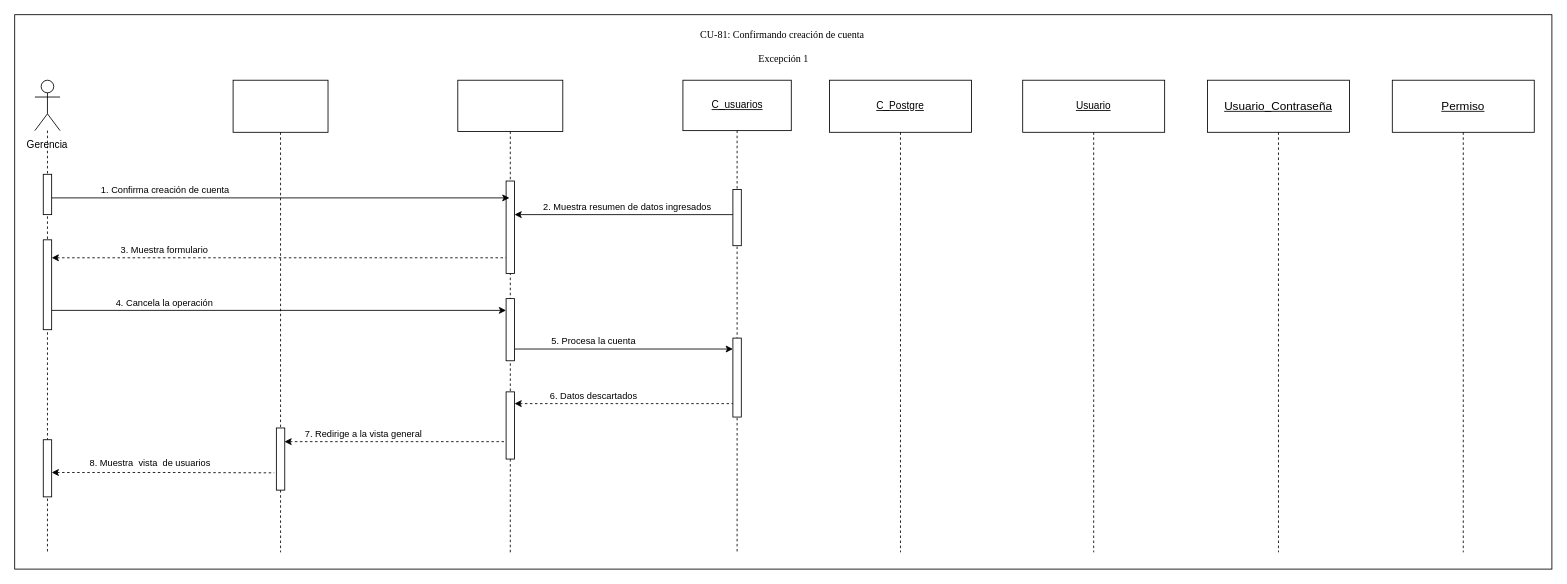
Some shapes in this 1567 by 584 pixel diagram are drawn without their labels. The box of each missing label's shape, as (x1, y1, x2, y2) in pixels:
V Usuarios: (232, 79, 328, 552)
V_Nuevo Usuario: (457, 79, 563, 552)
